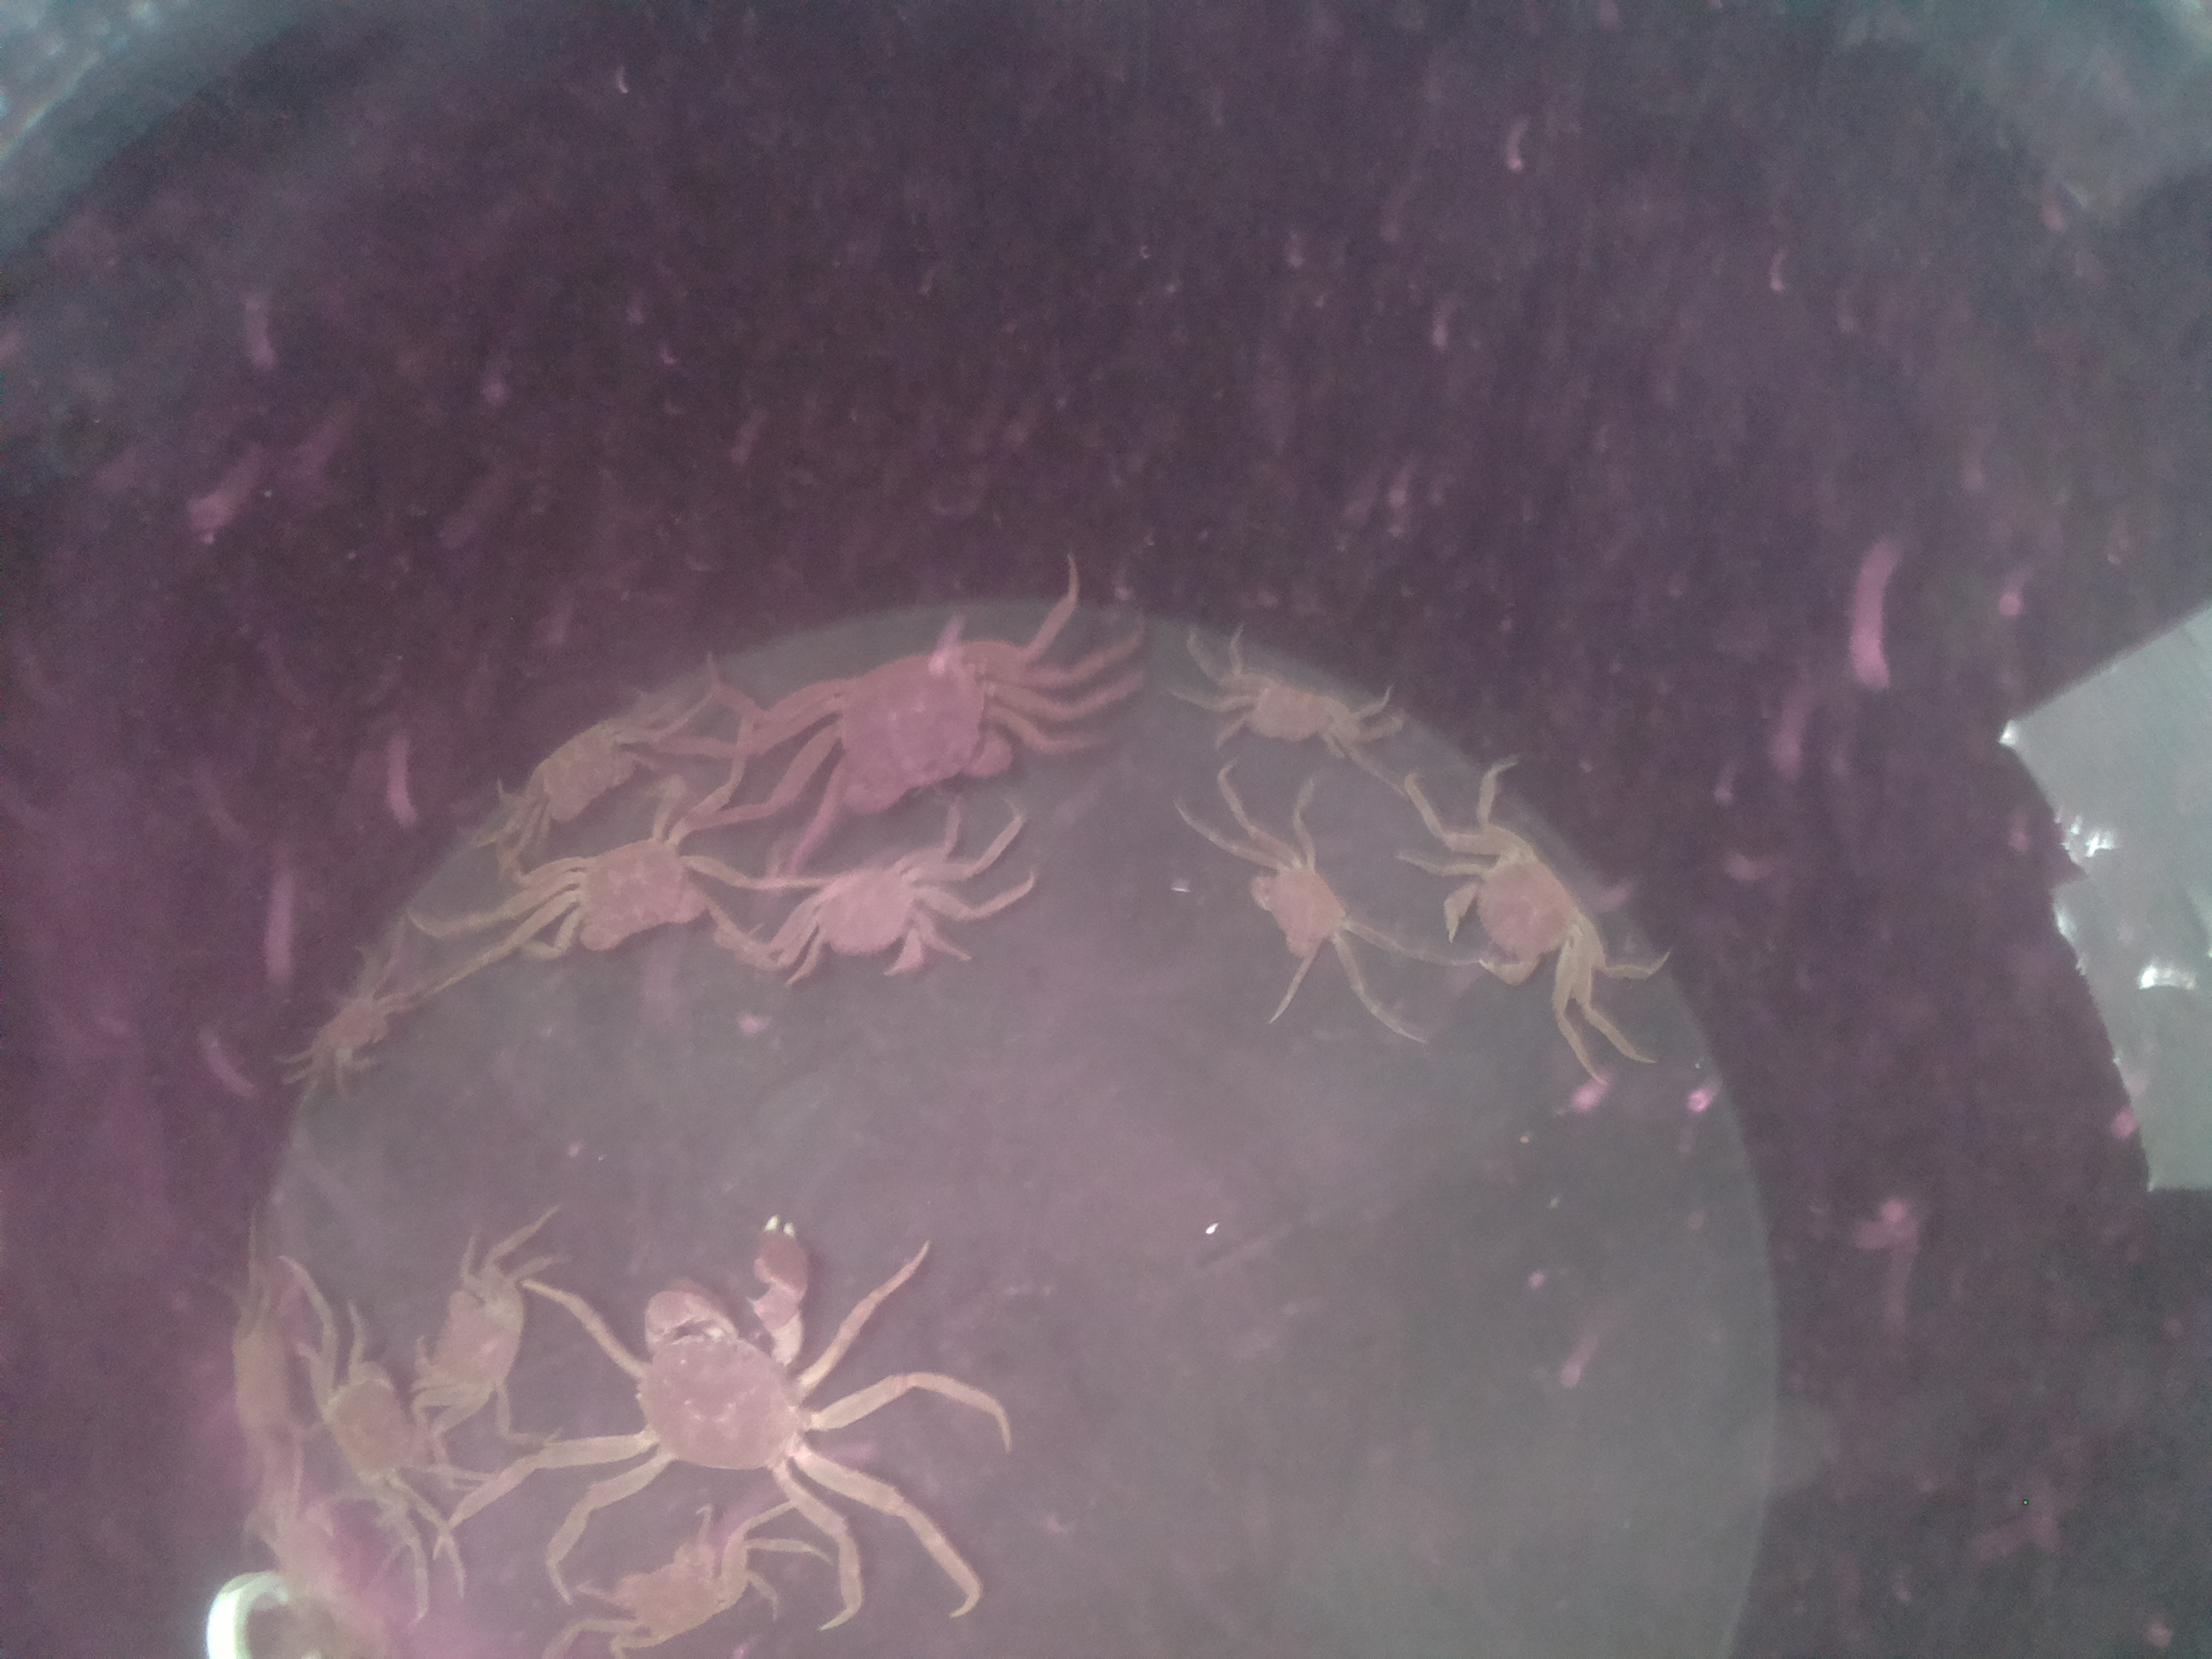Crab: (627, 1211, 859, 1521), (805, 620, 1054, 828), (392, 1209, 580, 1434), (759, 843, 977, 1028), (1414, 816, 1602, 999), (496, 835, 740, 964), (481, 702, 678, 829), (1242, 824, 1371, 981), (1217, 660, 1367, 777)
